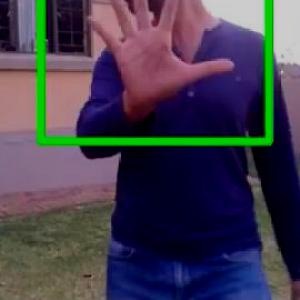follow_hand: (82, 0, 237, 109)
